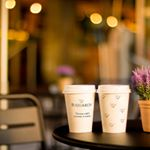cups: (97, 83, 134, 136), (61, 82, 97, 135)
